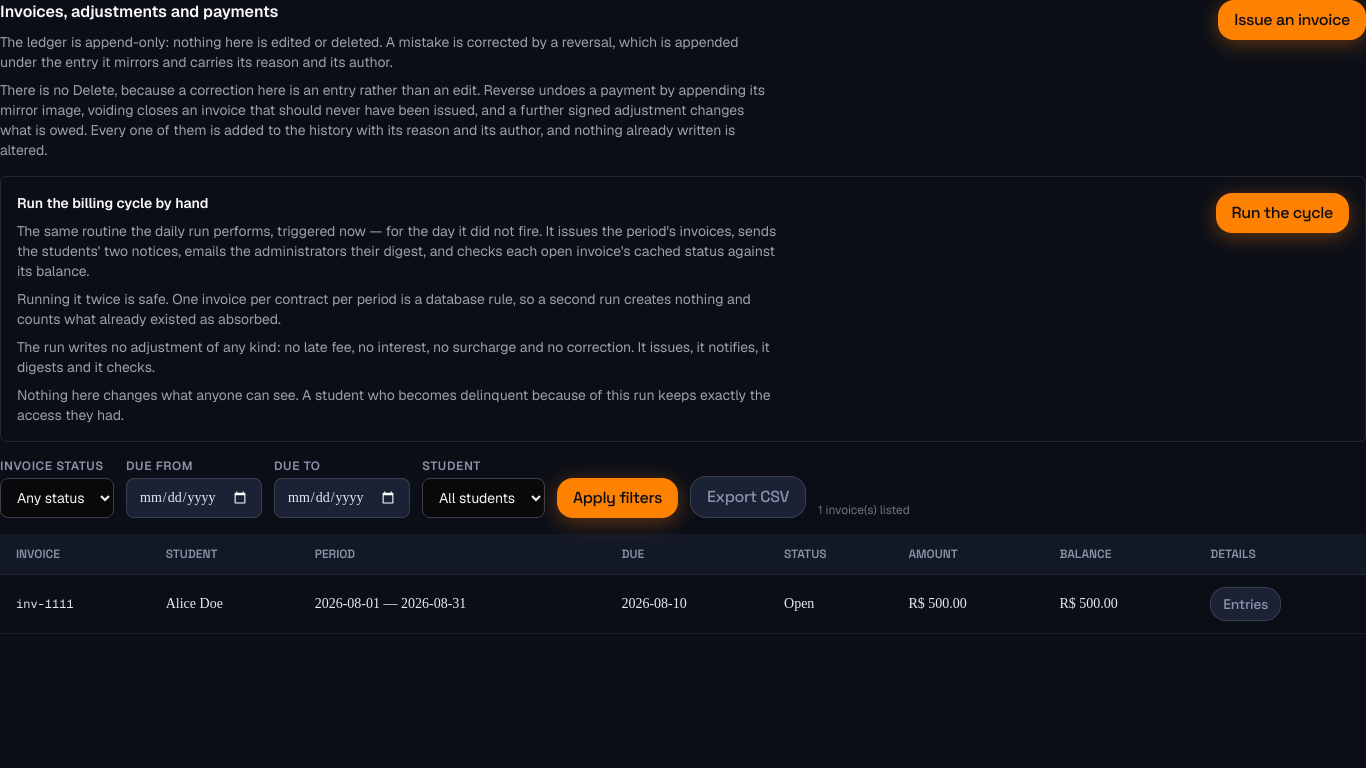
Test: LedgerTab › opens the three per-invoice write actions from the expanded invoice
Click the button "Entries": (1246, 604) [1210,587,1281,621]
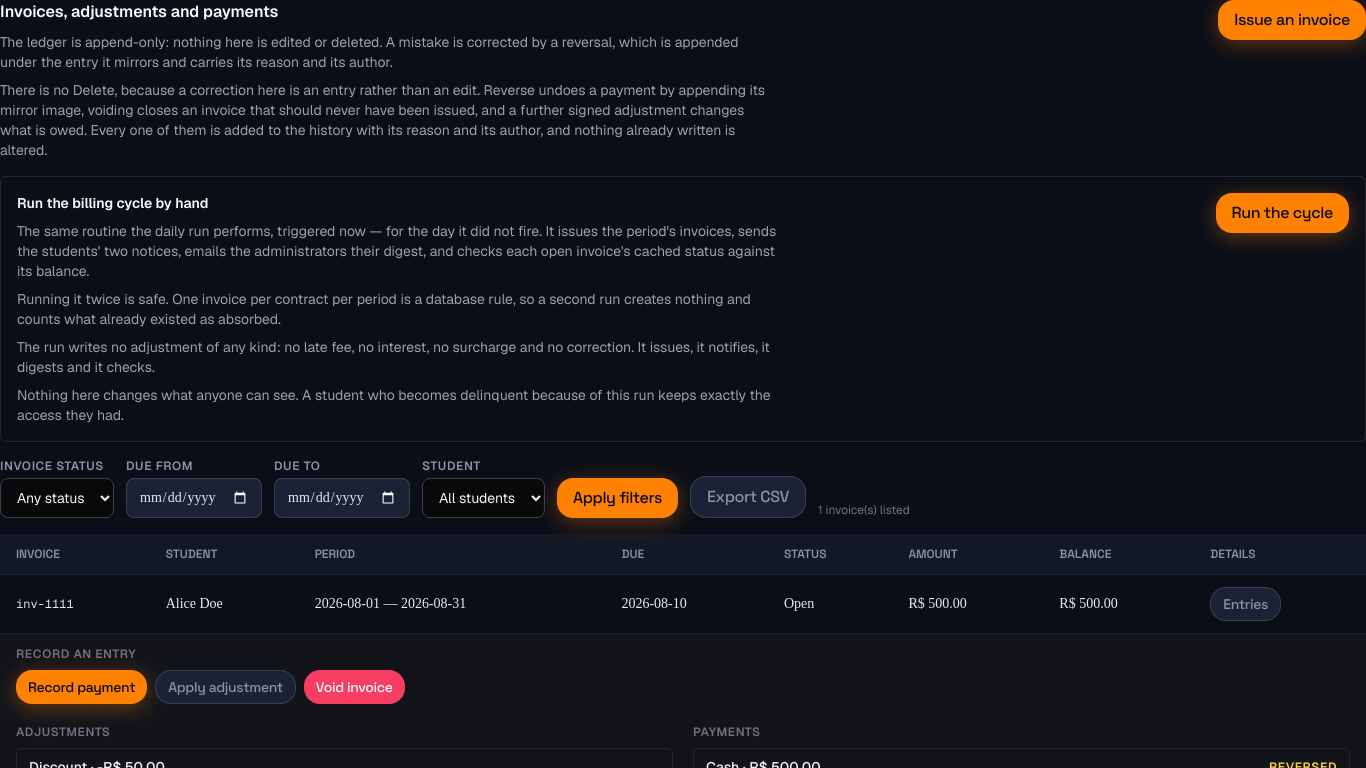
Result: the heading "Payments" is shown at [693,724,761,740]
Click the button "Record payment": (82, 687) [16,670,147,704]
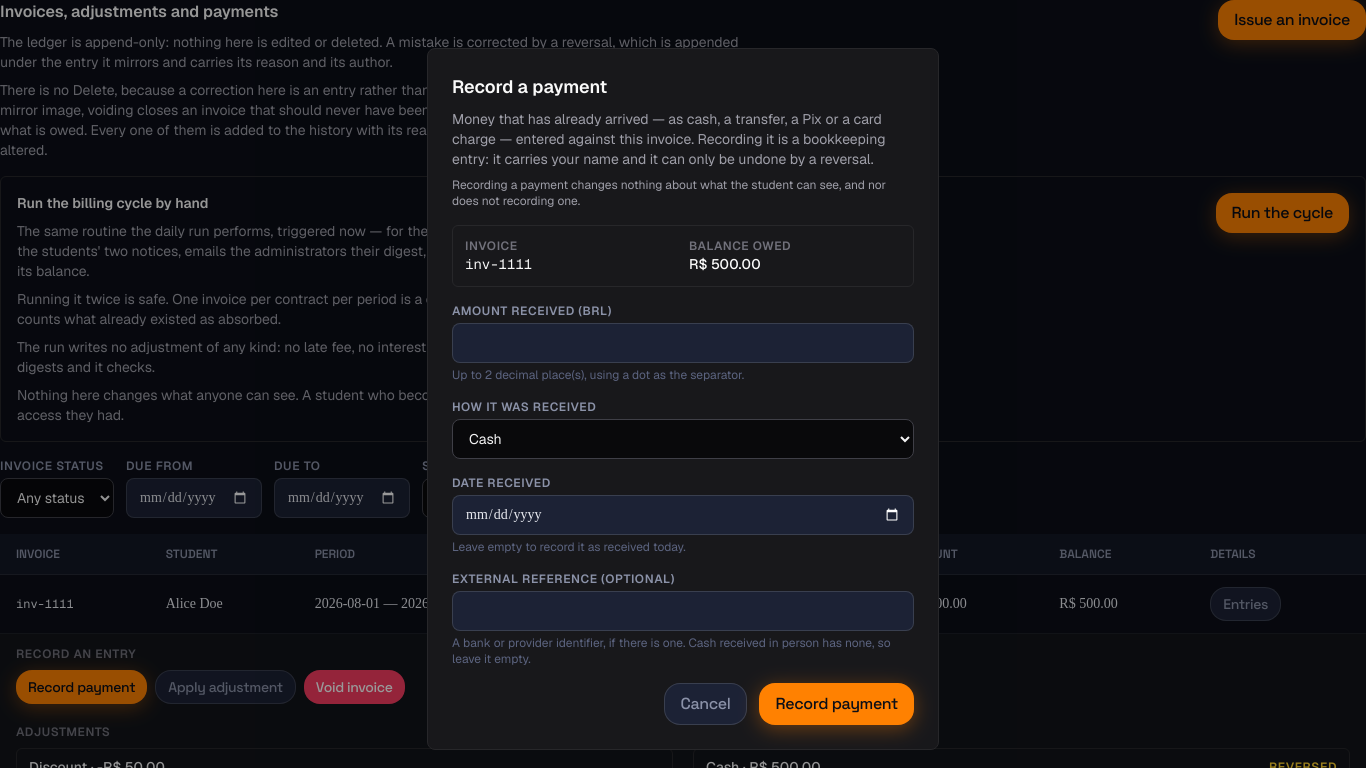
Result: the dialog "Record a payment" is shown
Click the button "Cancel": (706, 704) [664,683,748,725]
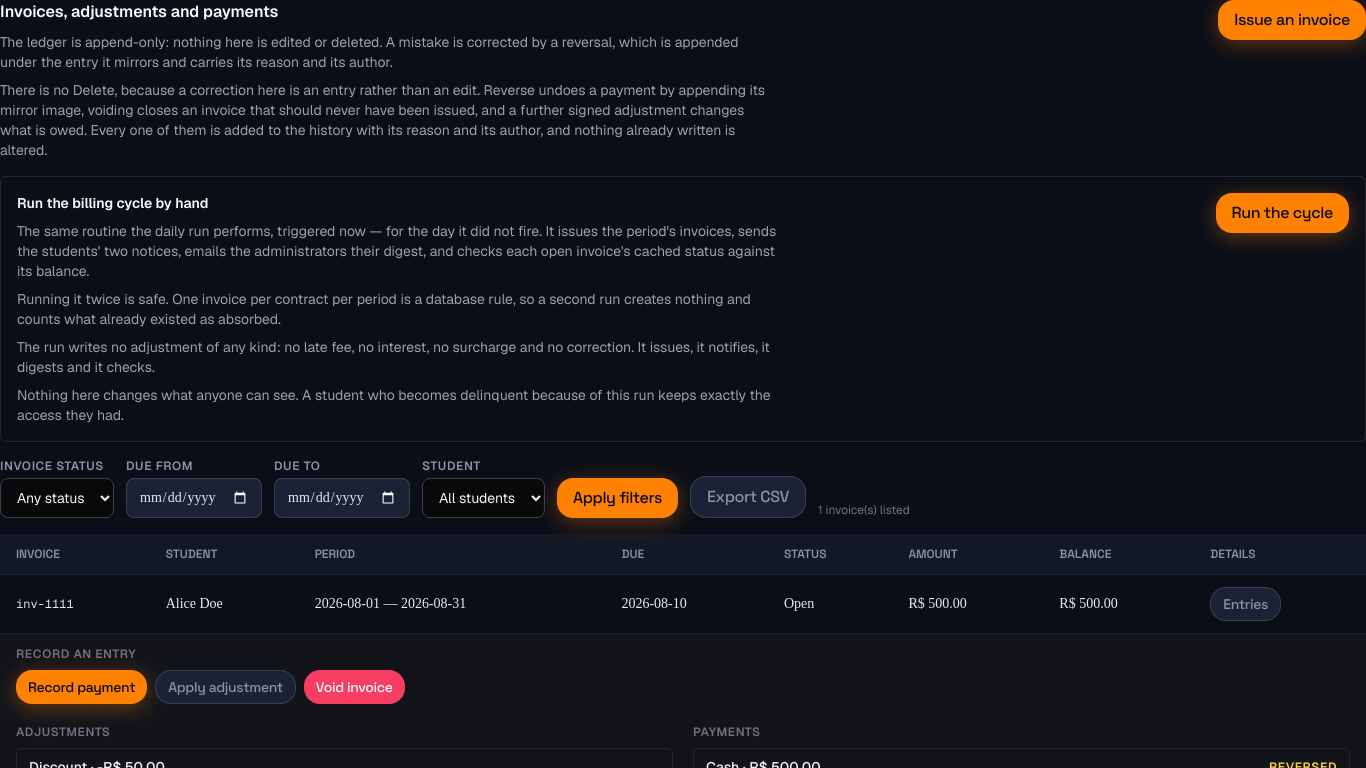
Click the button "Apply adjustment": (226, 687) [155,670,296,704]
(page scrolled)
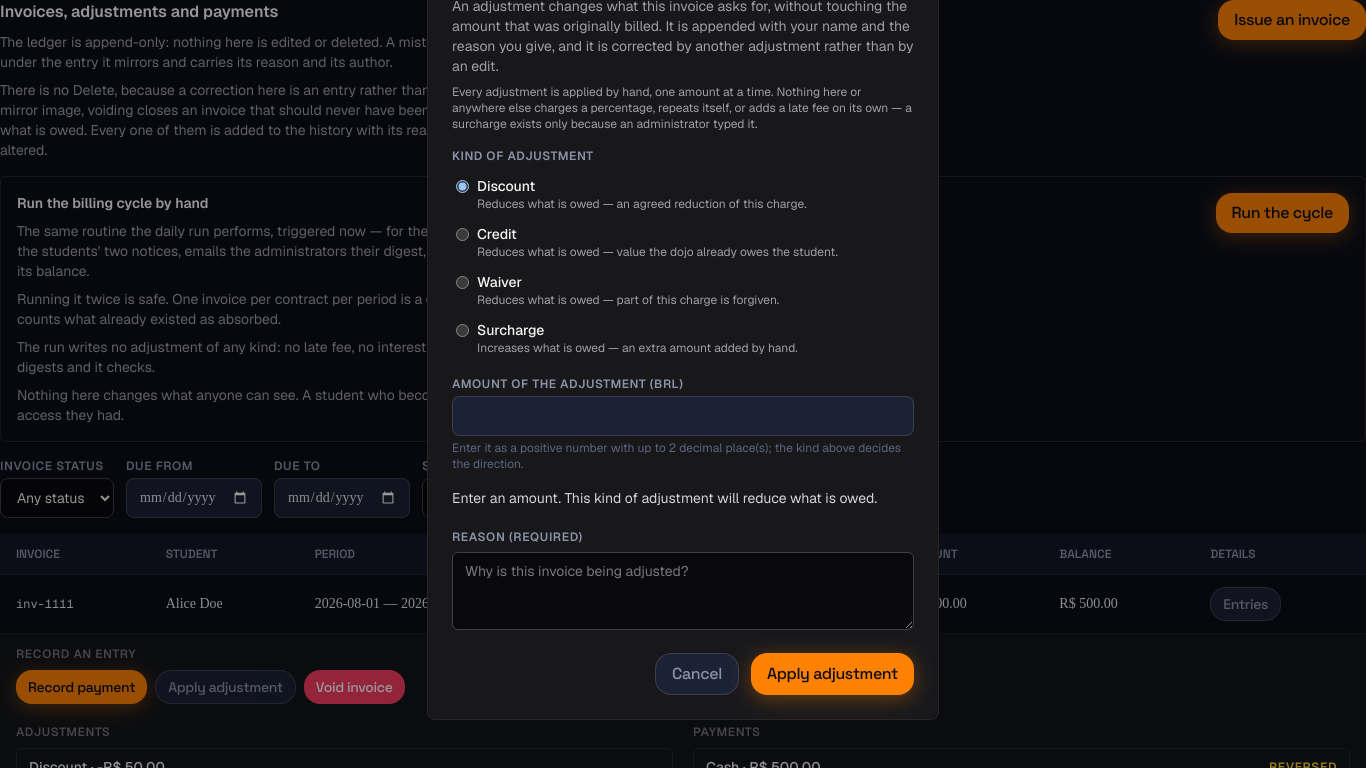
Result: the dialog "Apply an adjustment" is shown
Click the button "Cancel": (697, 674) [655,653,739,695]
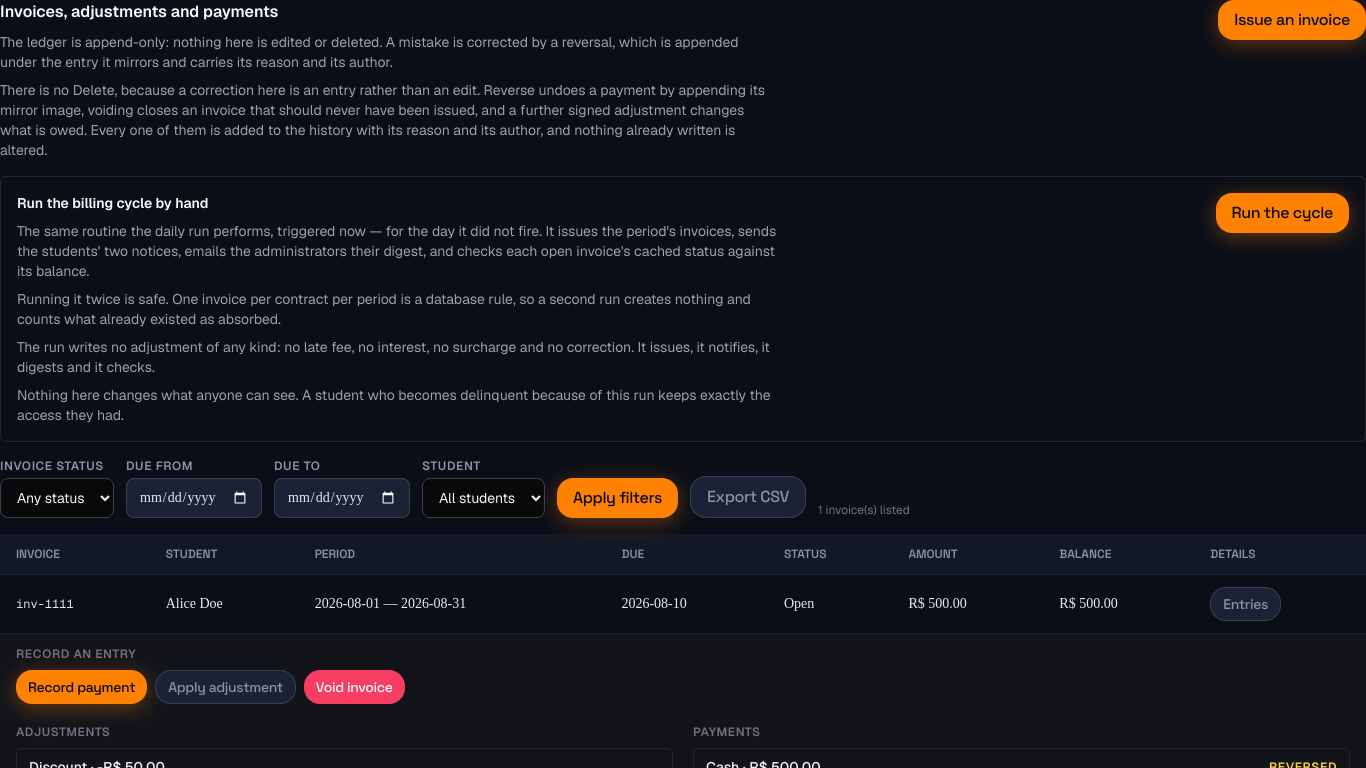
Click the button "Void invoice": (354, 687) [304,670,405,704]
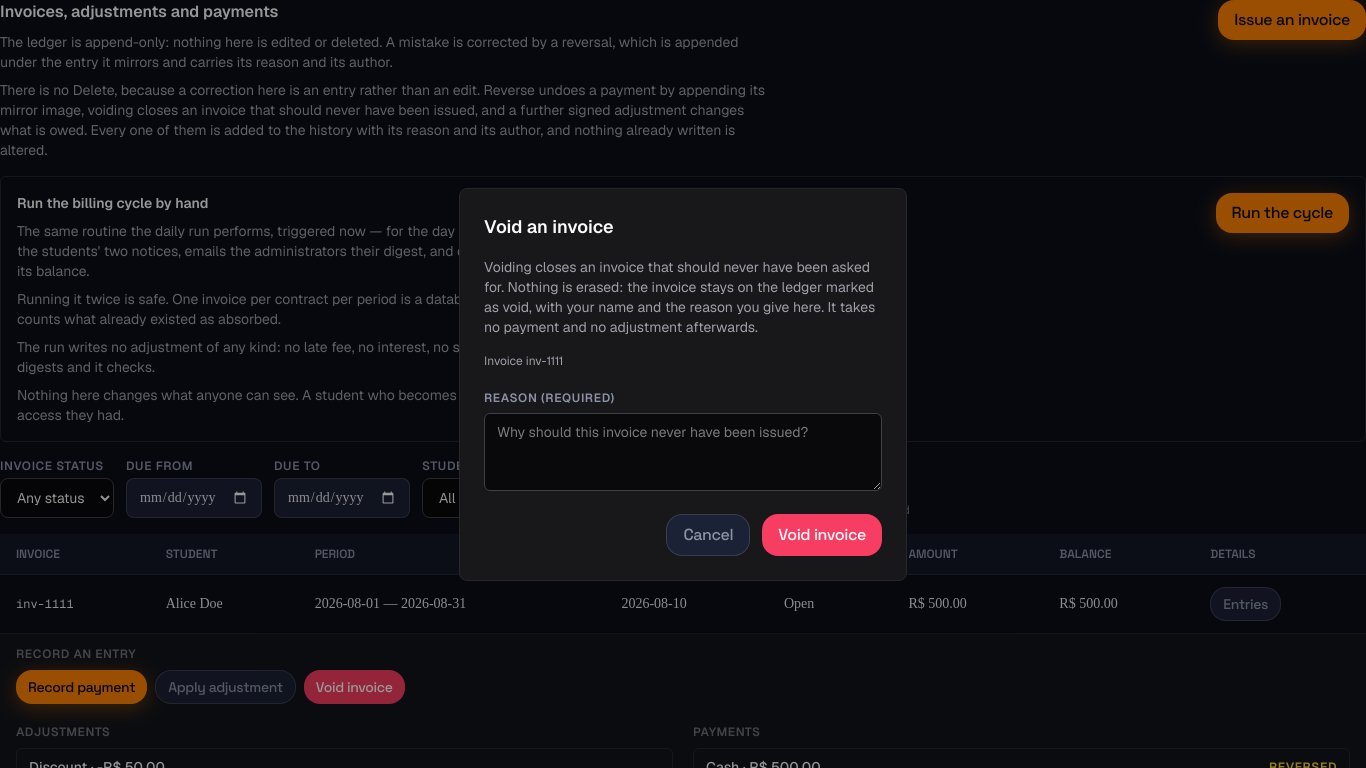
Result: the dialog "Void an invoice" is shown
